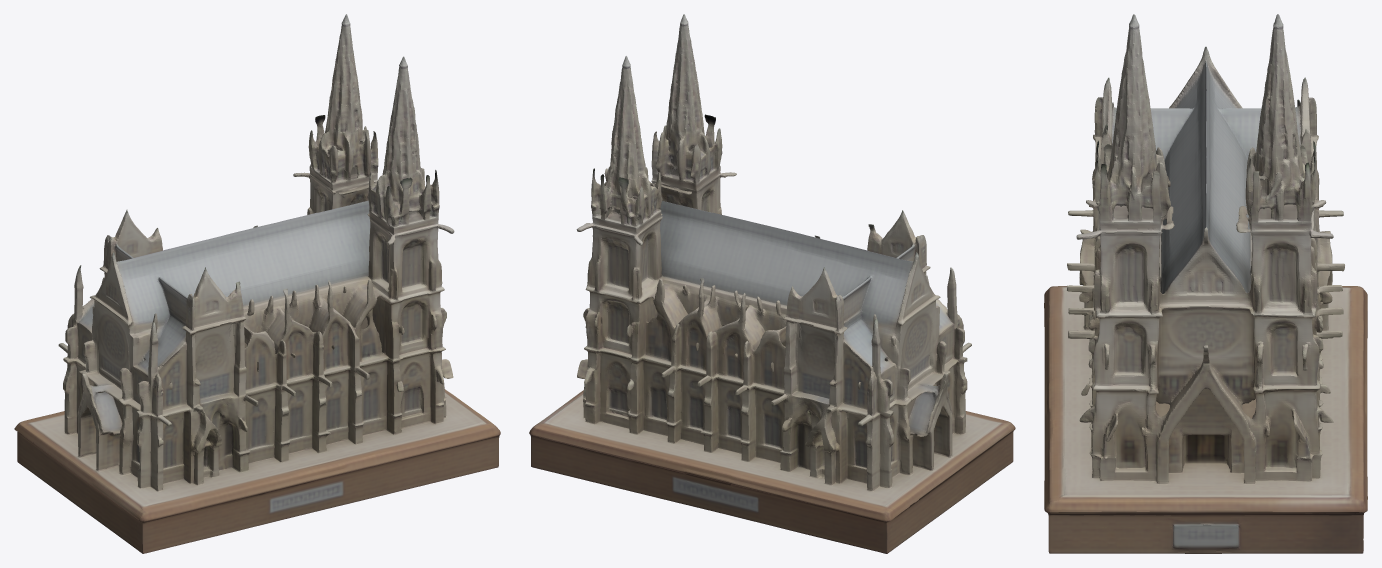
3 views of the same model, side by side, from view 1: azimuth 30°, elevation 25°; view 2: azimuth 150°, elevation 25°; view 3: azimuth 270°, elevation 25° (orthographic). The views are drawn at different scales.
Parts seen in each view (by area): view 1: geometry_0; view 2: geometry_0; view 3: geometry_0.
Part boxes in pixels (bbox=[...]): geometry_0: bbox=[14, 14, 500, 553]; geometry_0: bbox=[529, 14, 1015, 553]; geometry_0: bbox=[1044, 14, 1367, 553].
Size of the model in its own units: 0.9139 by 0.9684 by 0.565.
